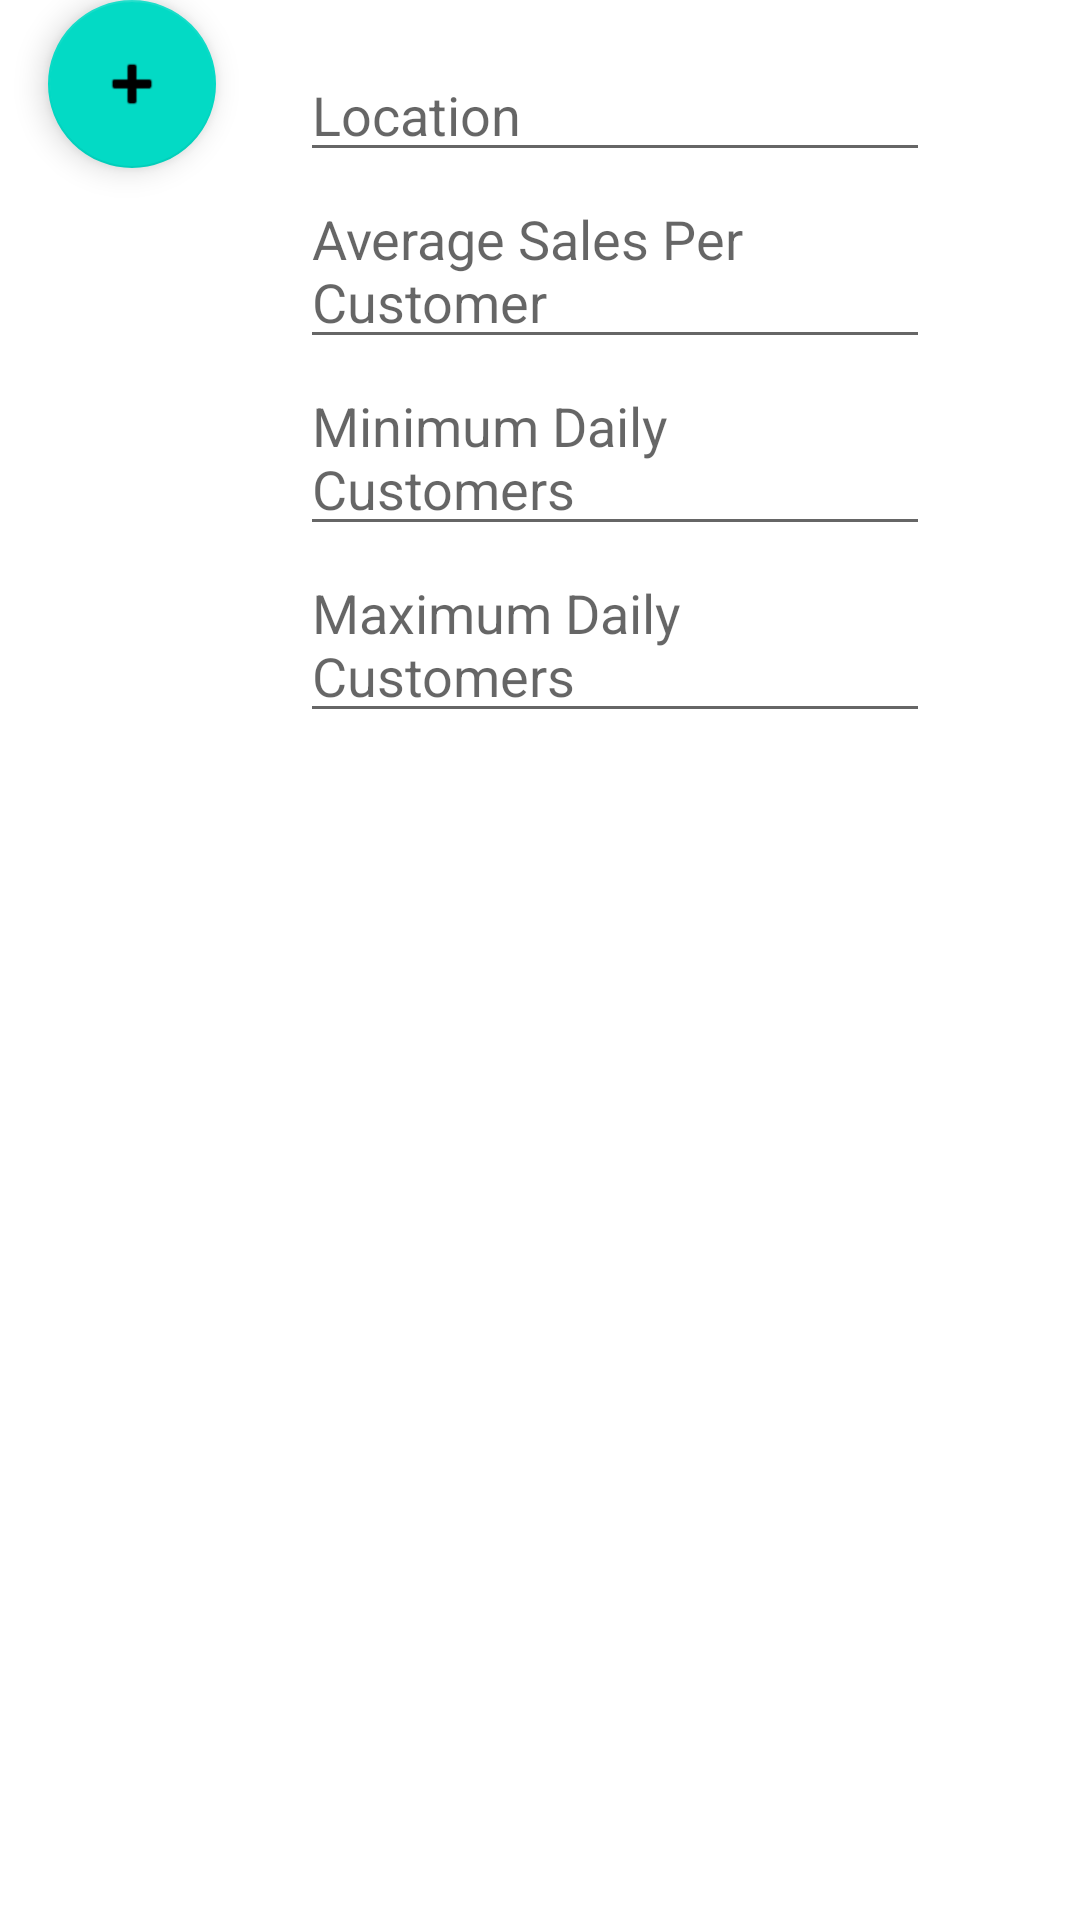

Icon bounding boxes for this 1080w x 1920h phone screenshot, format (x1, y1, x2, y2):
add: (48, 0, 216, 168)
